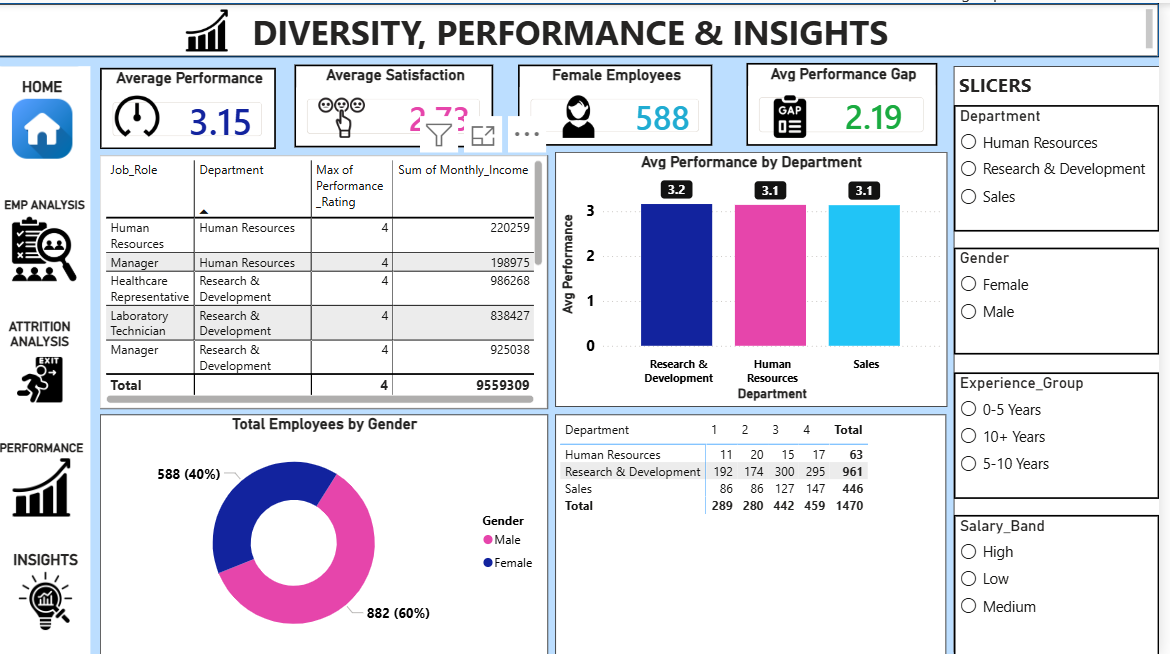

The dashboard page shown, as its layout file describes it:
{"tool":"powerbi","page":{"name":"Diversity, Performance & Insights","canvas":[1280,720],"ordinal":3},"visuals":[{"type":"cardVisual","title":"Average Performance","fields":{"Data":["Cleaned_HR_Data.Avg Performance"]},"box":[112.2,71.4,193.9,89.8],"z":0},{"type":"cardVisual","title":"Average Satisfaction","fields":{"Data":["Cleaned_HR_Data.Avg Satisfaction"]},"box":[326.3,68.4,219.3,91.2],"z":1000},{"type":"cardVisual","title":"Avg Performance Gap","fields":{"Data":["Cleaned_HR_Data.Avg Promotion Gap"]},"box":[824.6,66.7,210.5,91.2],"z":2000},{"type":"cardVisual","title":"Female Employees","fields":{"Data":["Cleaned_HR_Data.Female Employees"]},"box":[573.7,68.4,214,89.5],"z":3000},{"type":"textbox","box":[0,0,1280,60],"z":4000},{"type":"shape","box":[0,0,1280,60],"z":5000},{"type":"shape","box":[1054.9,70.6,225.5,649],"z":6000},{"type":"textbox","box":[1054.1,70.3,227,645.9],"z":7000},{"type":"listSlicer","fields":{"Values":["Cleaned_HR_Data.Department"]},"box":[1053.7,112.5,226.8,139.3],"z":8000},{"type":"listSlicer","fields":{"Values":["Cleaned_HR_Data.Experience_Group "]},"box":[1053.7,407.2,226.8,139.3],"z":9000},{"type":"listSlicer","fields":{"Values":["Cleaned_HR_Data.Salary_Band"]},"box":[1053.7,564.3,226.8,155.4],"z":10000},{"type":"donutChart","fields":{"Category":["Cleaned_HR_Data.Gender"],"Y":["Cleaned_HR_Data.Total Employees"]},"box":[112.2,453.1,493.9,265.3],"z":11000},{"type":"listSlicer","fields":{"Values":["Cleaned_HR_Data.Gender"]},"box":[1053.7,269.7,226.8,117.9],"z":12000},{"type":"clusteredColumnChart","fields":{"Category":["Cleaned_HR_Data.Department"],"Y":["Cleaned_HR_Data.Avg Performance"]},"box":[614,164.9,432,280.7],"z":13000},{"type":"pivotTable","fields":{"Rows":["Cleaned_HR_Data.Department"],"Columns":["Cleaned_HR_Data.Job_Satisfaction"],"Values":["Cleaned_HR_Data.Total Employees"]},"box":[614.3,453.1,430.6,265.3],"z":14000},{"type":"tableEx","fields":{"Values":["Cleaned_HR_Data.Job_Role","Cleaned_HR_Data.Department","Max(Cleaned_HR_Data.Performance_Rating)","Sum(Cleaned_HR_Data.Monthly_Income)"]},"box":[112.2,167.3,493.9,279.6],"z":15000},{"type":"shape","box":[0,70.2,91.2,645.6],"z":16000},{"type":"textbox","box":[0,69.4,102,651],"z":17000},{"type":"image","box":[126.5,100,53.1,49],"z":18000},{"type":"image","box":[338.8,100,79.6,53.1],"z":19000},{"type":"image","box":[606.1,102,69.4,46.9],"z":20000},{"type":"image","box":[846.9,102,53.1,46.9],"z":21000},{"type":"image","title":"HOME","box":[2,81.6,93.9,89.8],"z":22000},{"type":"image","title":"EMP ANALYSIS","box":[6.1,214.3,91.8,93.9],"z":23000},{"type":"image","title":"ATTRITION ANALYSIS","box":[0,349,91.8,95.9],"z":24000},{"type":"image","title":"PERFORMANCE","box":[0,481.6,95.9,83.7],"z":25000},{"type":"image","title":"INSIGHTS","box":[4.1,604.1,98,87.8],"z":26000},{"type":"image","box":[194.7,7.1,71.4,46.4],"z":27000}]}

Visuals, with their boxes in screenshot pixels (x1, y1, x2, y2), scaled from the page's 1280x720 canvas onto the 1170x654 screenshot:
"Average Performance" cardVisual: left=103, top=65, right=280, bottom=146
"Average Satisfaction" cardVisual: left=298, top=62, right=499, bottom=145
"Avg Performance Gap" cardVisual: left=754, top=61, right=946, bottom=143
"Female Employees" cardVisual: left=524, top=62, right=720, bottom=143
textbox: left=0, top=0, right=1169, bottom=54
shape: left=0, top=0, right=1169, bottom=54
shape: left=964, top=64, right=1169, bottom=653
textbox: left=964, top=64, right=1169, bottom=651
listSlicer - Cleaned_HR_Data.Department: left=963, top=102, right=1169, bottom=229
listSlicer - Cleaned_HR_Data.Experience_Group : left=963, top=370, right=1169, bottom=496
listSlicer - Cleaned_HR_Data.Salary_Band: left=963, top=513, right=1169, bottom=653
donutChart - Cleaned_HR_Data.Gender x Cleaned_HR_Data.Total Employees: left=103, top=412, right=554, bottom=653
listSlicer - Cleaned_HR_Data.Gender: left=963, top=245, right=1169, bottom=352
clusteredColumnChart - Cleaned_HR_Data.Department x Cleaned_HR_Data.Avg Performance: left=561, top=150, right=956, bottom=405
pivotTable - Cleaned_HR_Data.Department x Cleaned_HR_Data.Job_Satisfaction: left=562, top=412, right=955, bottom=653
tableEx - Cleaned_HR_Data.Job_Role x Cleaned_HR_Data.Department: left=103, top=152, right=554, bottom=406
shape: left=0, top=64, right=83, bottom=650
textbox: left=0, top=63, right=93, bottom=653
image: left=116, top=91, right=164, bottom=135
image: left=310, top=91, right=382, bottom=139
image: left=554, top=93, right=617, bottom=135
image: left=774, top=93, right=823, bottom=135
"HOME" image: left=2, top=74, right=88, bottom=156
"EMP ANALYSIS" image: left=6, top=195, right=89, bottom=280
"ATTRITION ANALYSIS" image: left=0, top=317, right=84, bottom=404
"PERFORMANCE" image: left=0, top=437, right=88, bottom=513
"INSIGHTS" image: left=4, top=549, right=93, bottom=628
image: left=178, top=6, right=243, bottom=49
